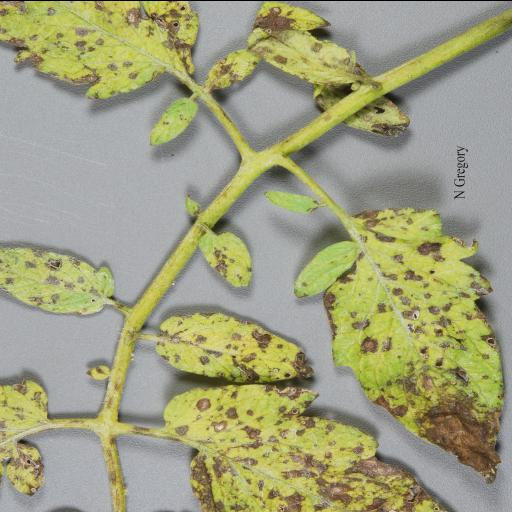Septoria: (292, 201, 504, 479), (158, 382, 460, 512), (0, 0, 202, 102), (156, 313, 318, 393), (235, 2, 379, 85), (0, 240, 118, 318), (0, 375, 56, 498), (196, 224, 258, 296), (203, 46, 261, 90)
